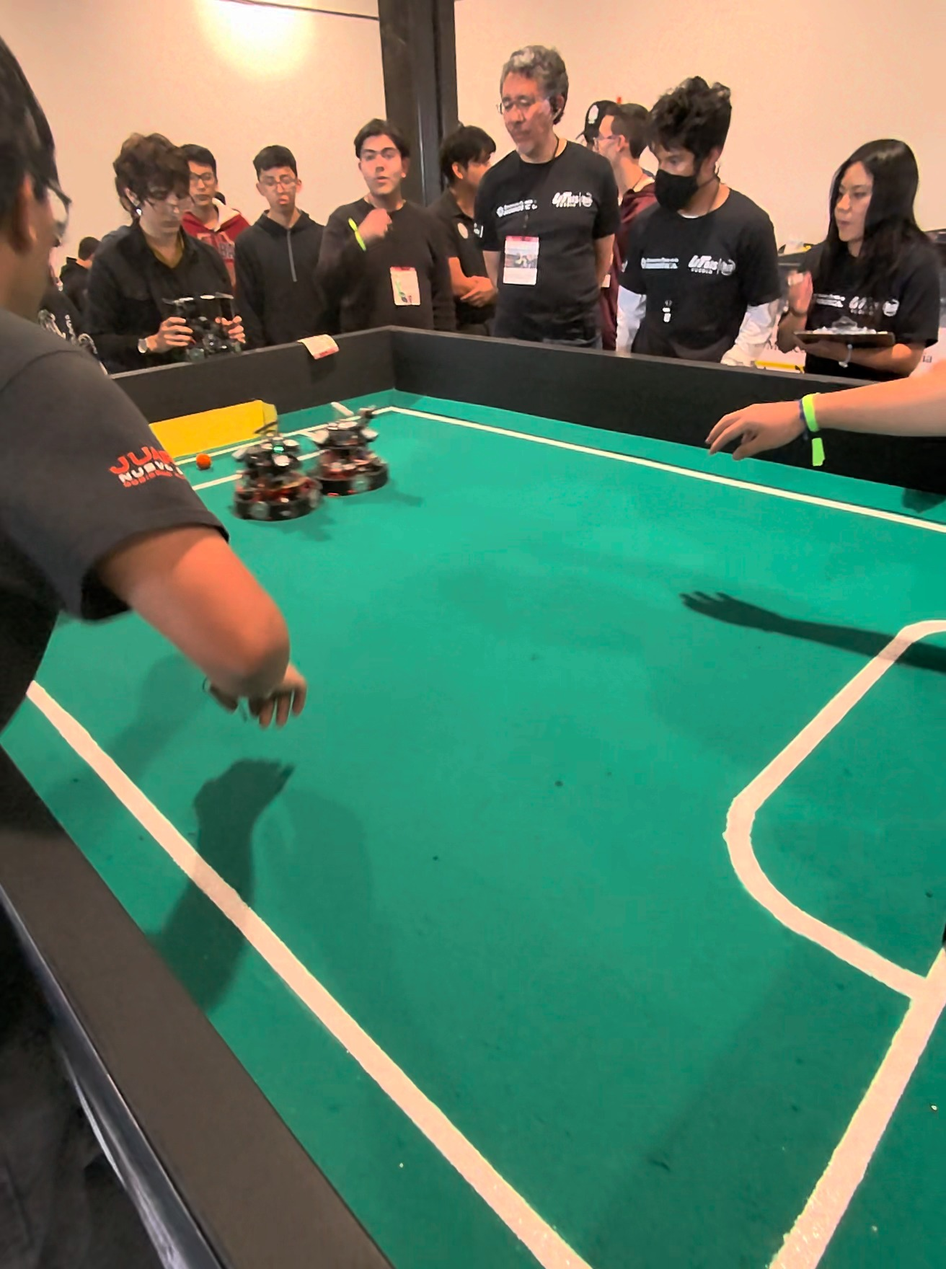Robot: (228, 406, 314, 528), (317, 398, 391, 499)
pelota: (194, 451, 213, 471)
